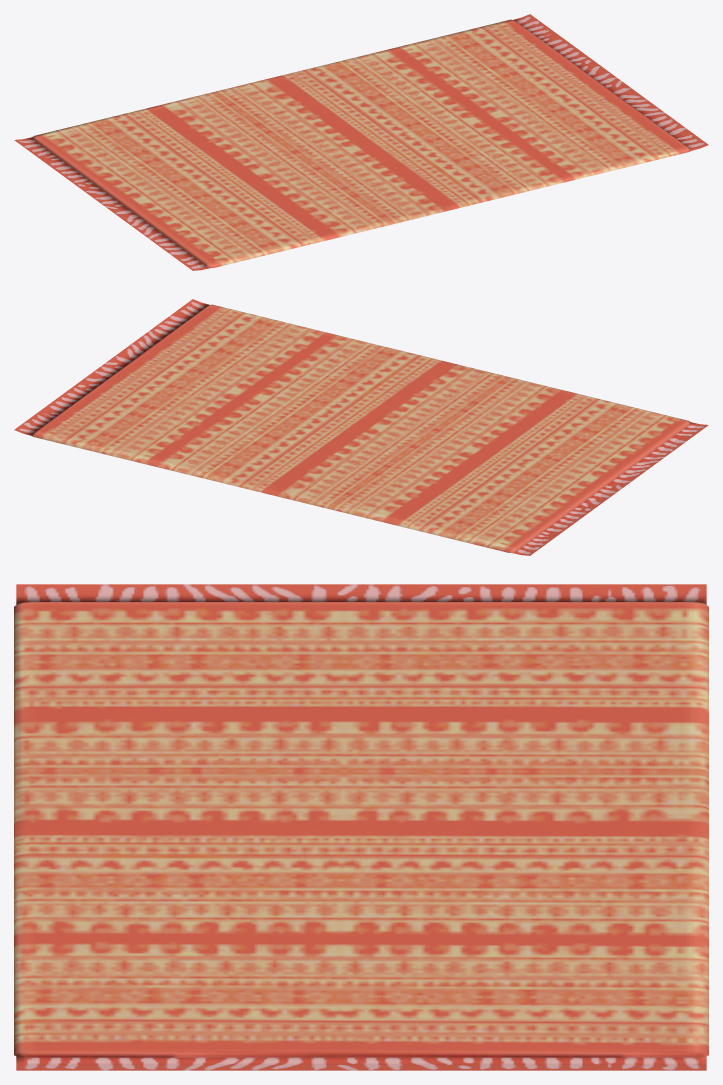
Rendered from SM_Carpet_04.fbx.
The picture shows the model from 3 angles, top to bottom: view 1: azimuth 30°, elevation 25°; view 2: azimuth 150°, elevation 25°; view 3: azimuth 270°, elevation 25°; orthographic projection. The views are drawn at different scales.
Parts seen in each view (by area): view 1: SM_Carpet_04_LOD0; view 2: SM_Carpet_04_LOD0; view 3: SM_Carpet_04_LOD0.
Part boxes in pixels (box(x1,y1,x2,y2)): SM_Carpet_04_LOD0: box(14, 14, 708, 270); SM_Carpet_04_LOD0: box(14, 299, 708, 555); SM_Carpet_04_LOD0: box(14, 584, 708, 1070).
Bounding box in the file's own units: 205 × 124 × 0.6961.
Materials: 1 (1 with a texture image).
